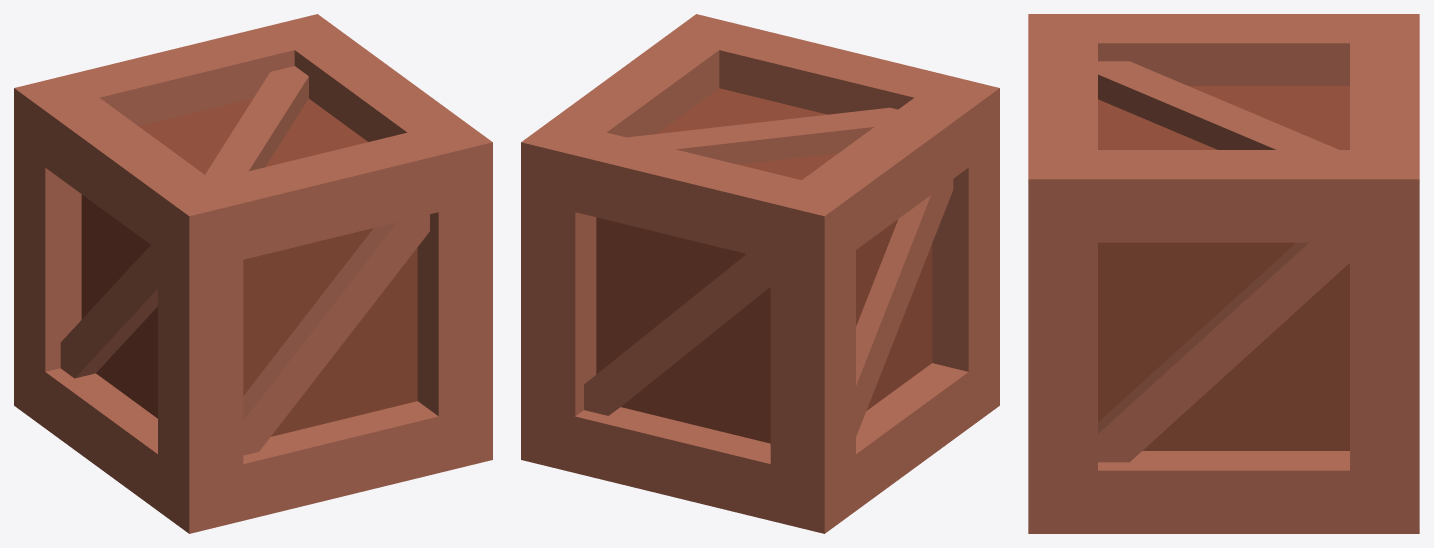
Rendered from caisse1.fbx.
3 views of the same model, side by side, from view 1: azimuth 30°, elevation 25°; view 2: azimuth 150°, elevation 25°; view 3: azimuth 270°, elevation 25° (orthographic). The views are drawn at different scales.
Parts seen in each view (by area): view 1: mergedBlocks; view 2: mergedBlocks; view 3: mergedBlocks.
Part boxes in pixels (x1,y1,x2,y2): mergedBlocks: (14,14,492,533); mergedBlocks: (521,14,999,533); mergedBlocks: (1028,14,1419,533).
Size of the model in its own units: 3 by 3 by 3.
